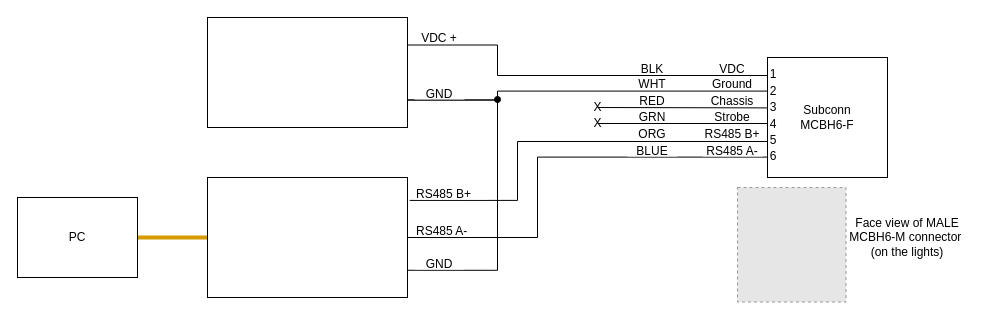
Image size: 985x320. Some labels were removed from this diagram. Grey dashed boxes stand in for pictures. The box of each missing label's shape, as (x1, y1, x2, y2) in pixels:
24V / 10A Power Supply: (206, 16, 408, 128)
USB - RS485: (206, 176, 408, 298)
